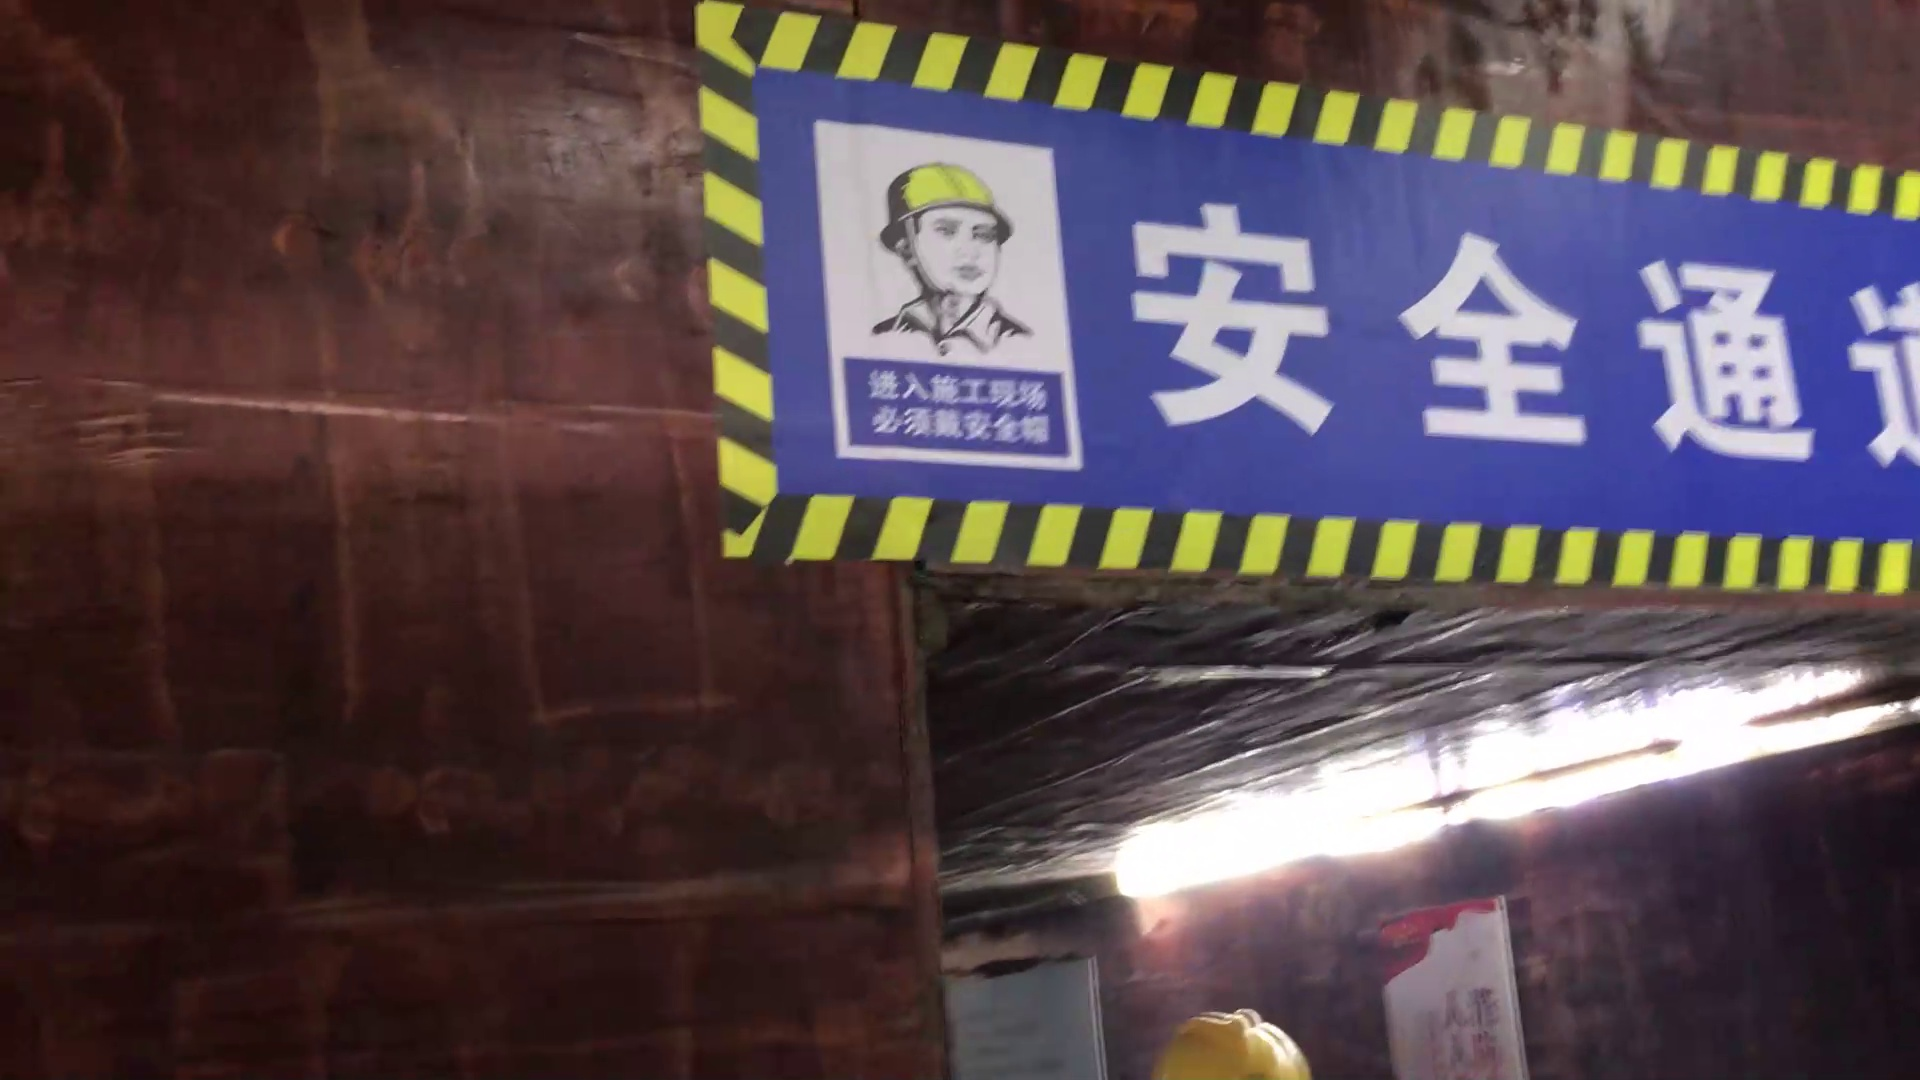helmet: (1147, 1000, 1320, 1080)
slogan: (725, 79, 1920, 582), (1379, 898, 1527, 1080)
